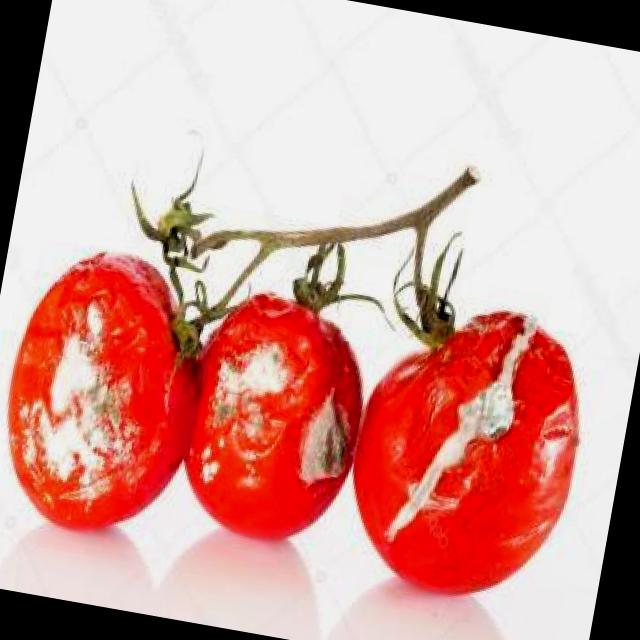Rotten_Tomato: (323, 281, 604, 621), (0, 224, 227, 558), (168, 274, 386, 562)
